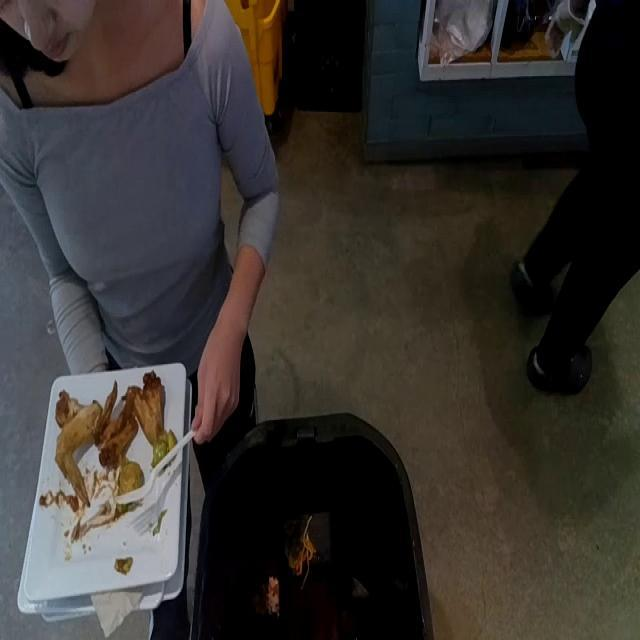Anorganik: (14, 365, 193, 605), (127, 431, 191, 501)
Organik: (51, 370, 171, 496)
